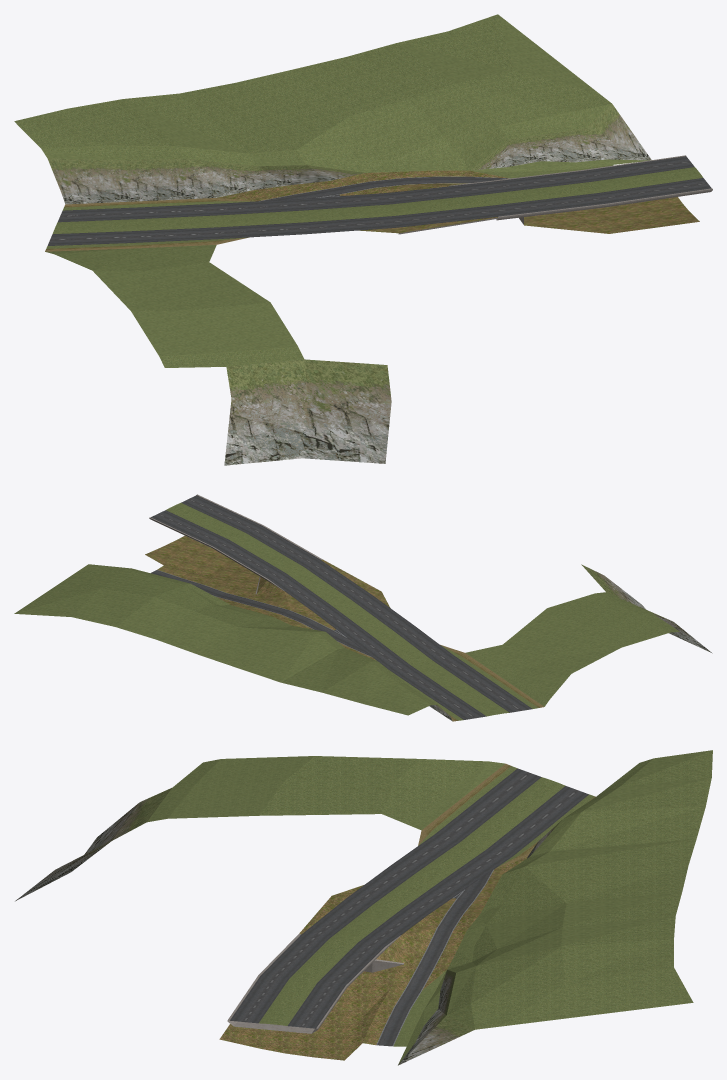
Rendered from s_bit_17.obj.
3 views of the same model, one above another, from view 1: azimuth 30°, elevation 25°; view 2: azimuth 150°, elevation 25°; view 3: azimuth 270°, elevation 25° (orthographic). The views are drawn at different scales.
Visible parts, largest first — view 1: s_bit_17; view 2: s_bit_17; view 3: s_bit_17.
Boxes of the visible parts, x1,y1,x2,y2 form: s_bit_17: [14, 14, 712, 465]; s_bit_17: [14, 494, 712, 721]; s_bit_17: [15, 750, 712, 1065].
Bounding box in the file's own units: 247 × 48.92 × 240.
11 materials, 11 textured.
